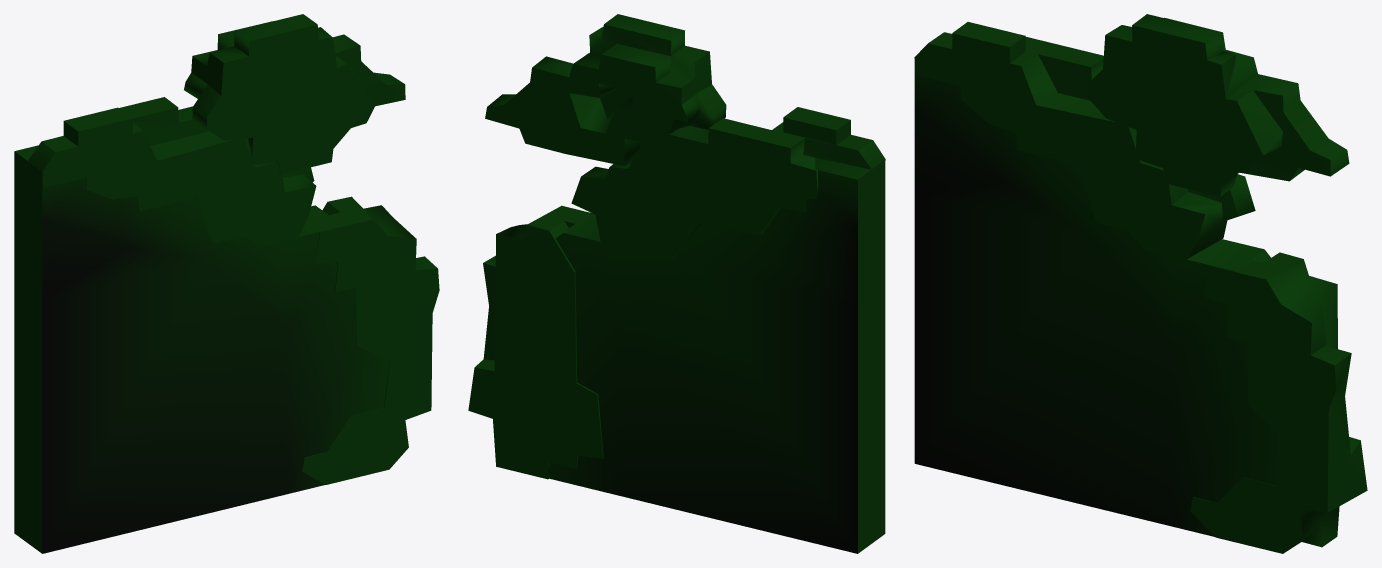
File: DBK_Brick_End_B.fbx
3 views of the same model, side by side, from view 1: azimuth 30°, elevation 25°; view 2: azimuth 150°, elevation 25°; view 3: azimuth 330°, elevation 25° (orthographic). The views are drawn at different scales.
Visible parts, largest first — view 1: DBK_Brick_End_B; view 2: DBK_Brick_End_B; view 3: DBK_Brick_End_B.
Part boxes in pixels (left/top/right/bottom): DBK_Brick_End_B: left=14, top=14, right=439, bottom=553; DBK_Brick_End_B: left=468, top=14, right=885, bottom=553; DBK_Brick_End_B: left=914, top=14, right=1367, bottom=553.
Bounding box in the file's own units: 163 × 182 × 21.82.
